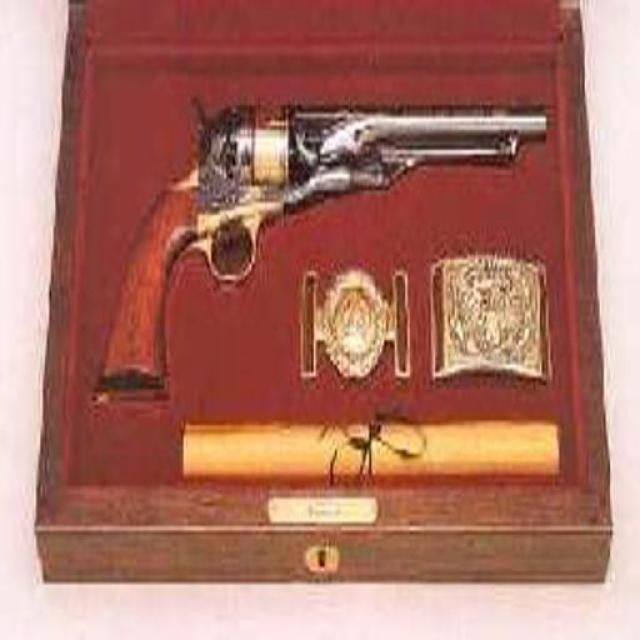pistol: (94, 76, 553, 400)
